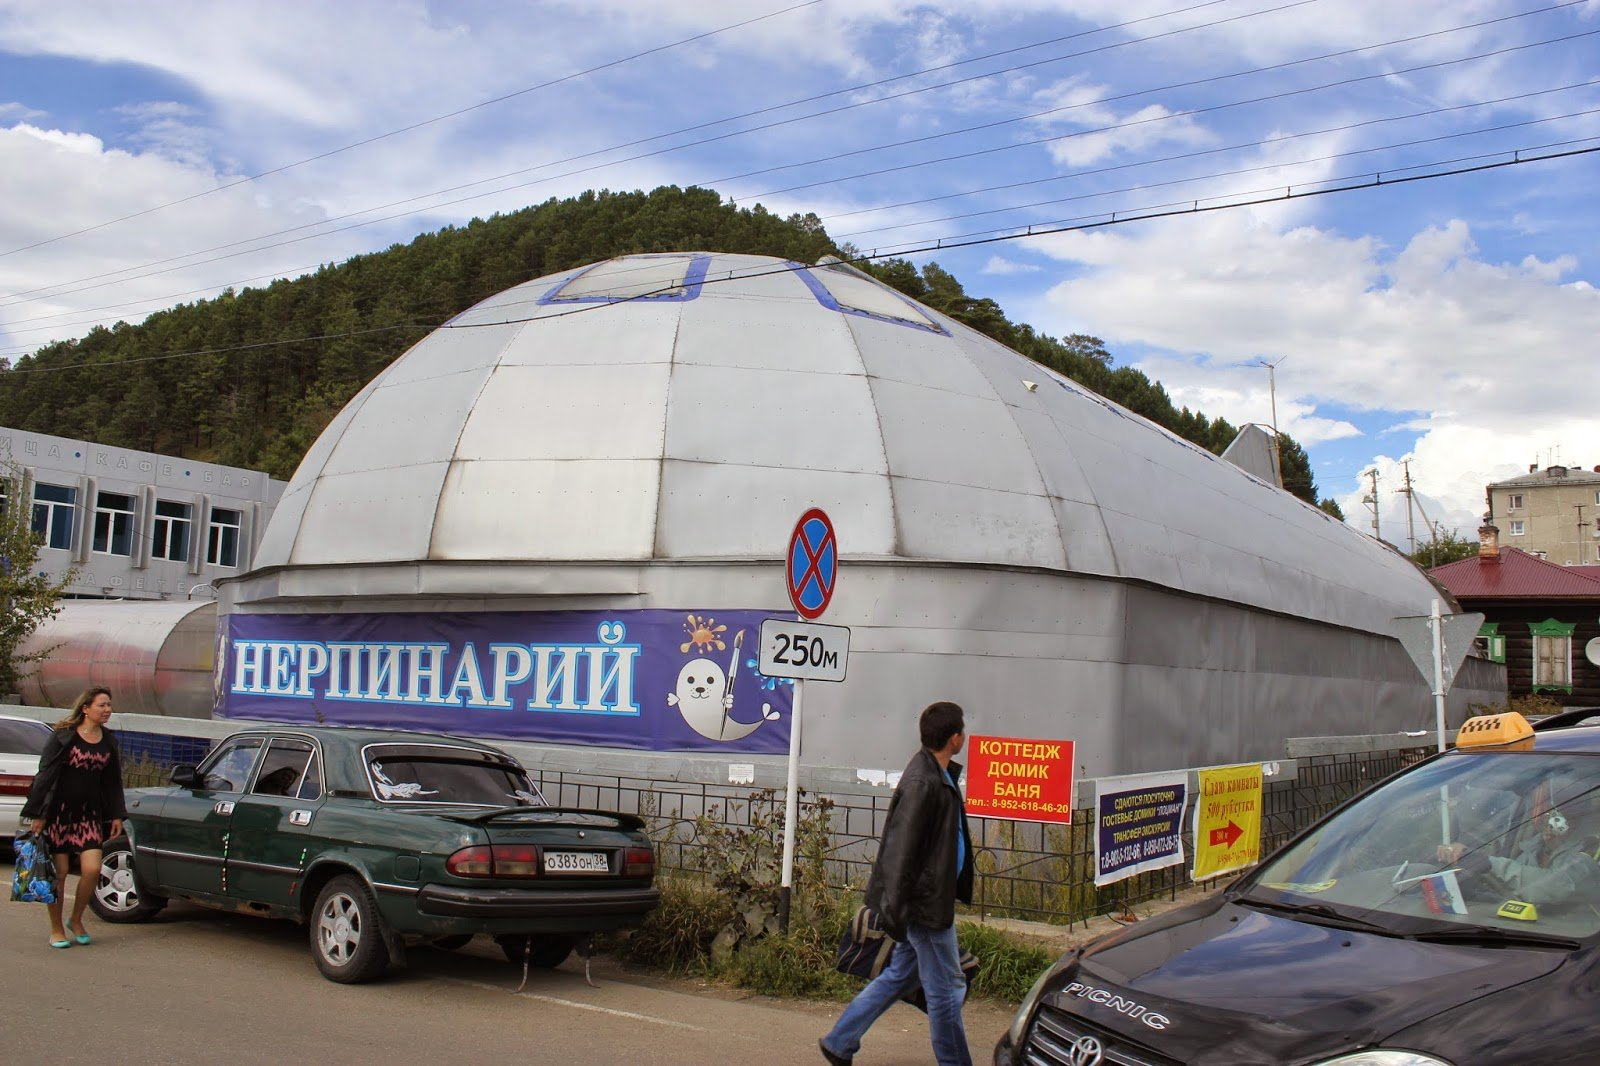sign: (783, 508, 842, 617)
